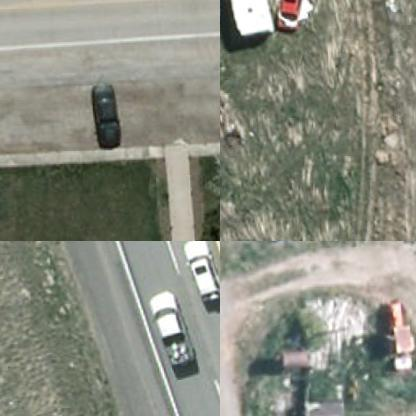camping car: (220, 0, 273, 38)
car: (179, 241, 219, 304), (85, 84, 119, 150), (268, 0, 310, 31)
pickup: (141, 289, 198, 370)
tractor: (368, 294, 415, 372)
